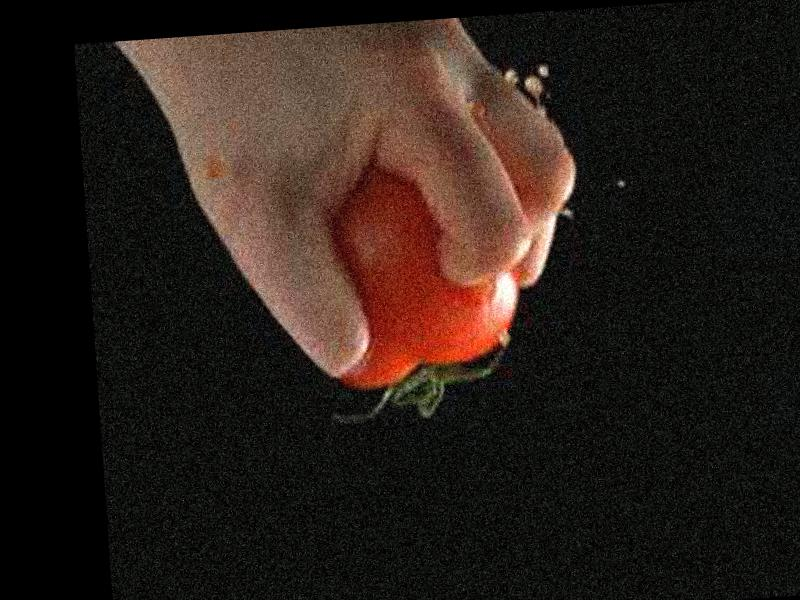Tomato: (323, 160, 523, 390)
